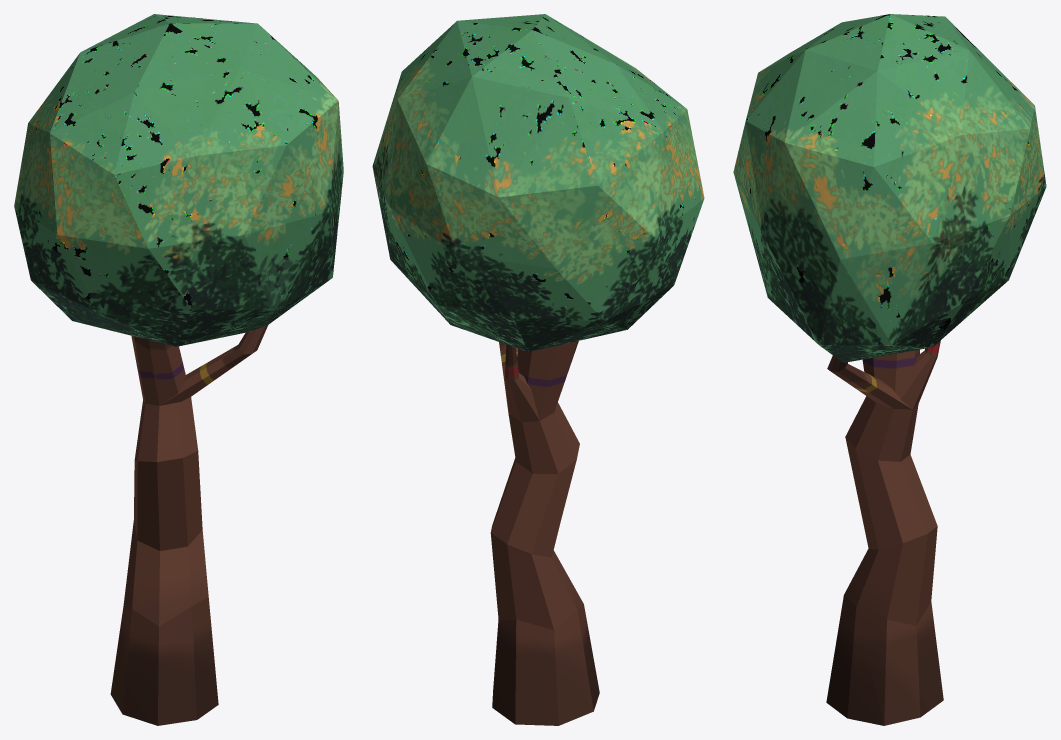
Rendered from tree.fbx.
3 renders of one model, left to right at view 1: azimuth 30°, elevation 25°; view 2: azimuth 150°, elevation 25°; view 3: azimuth 270°, elevation 25°, orthographic. The views are drawn at different scales.
Visible parts, largest first — view 1: Crown, Trunk; view 2: Crown, Trunk; view 3: Crown, Trunk.
Part boxes in pixels (x1,y1,x2,y2): Crown: (14, 14, 343, 346); Trunk: (110, 324, 268, 725); Crown: (372, 14, 704, 351); Trunk: (490, 341, 599, 725); Crown: (733, 14, 1046, 362); Trunk: (826, 340, 943, 725).
Bounding box in the file's own units: 372 × 821 × 337.
Materials: 2 (2 with a texture image).
